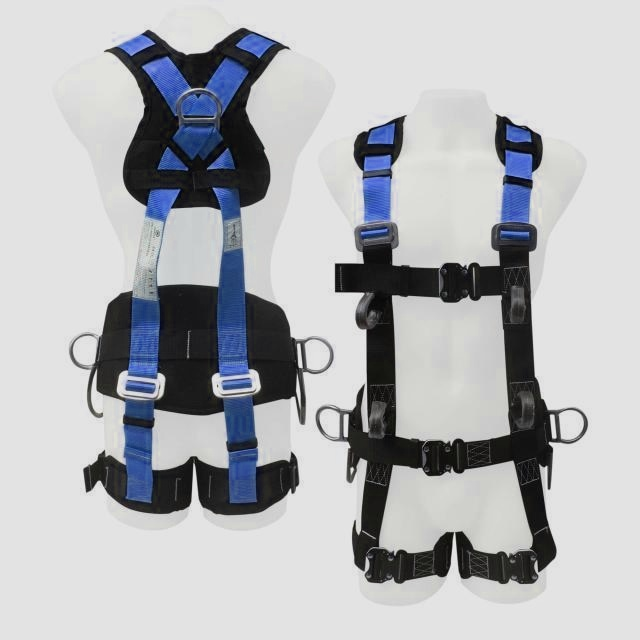safety belt: (342, 105, 583, 607), (88, 52, 298, 526)
